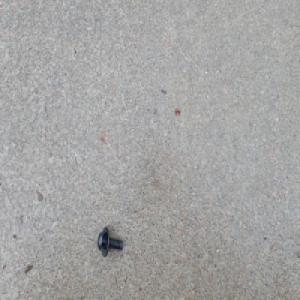BoltWasher: (97, 226, 123, 257)
